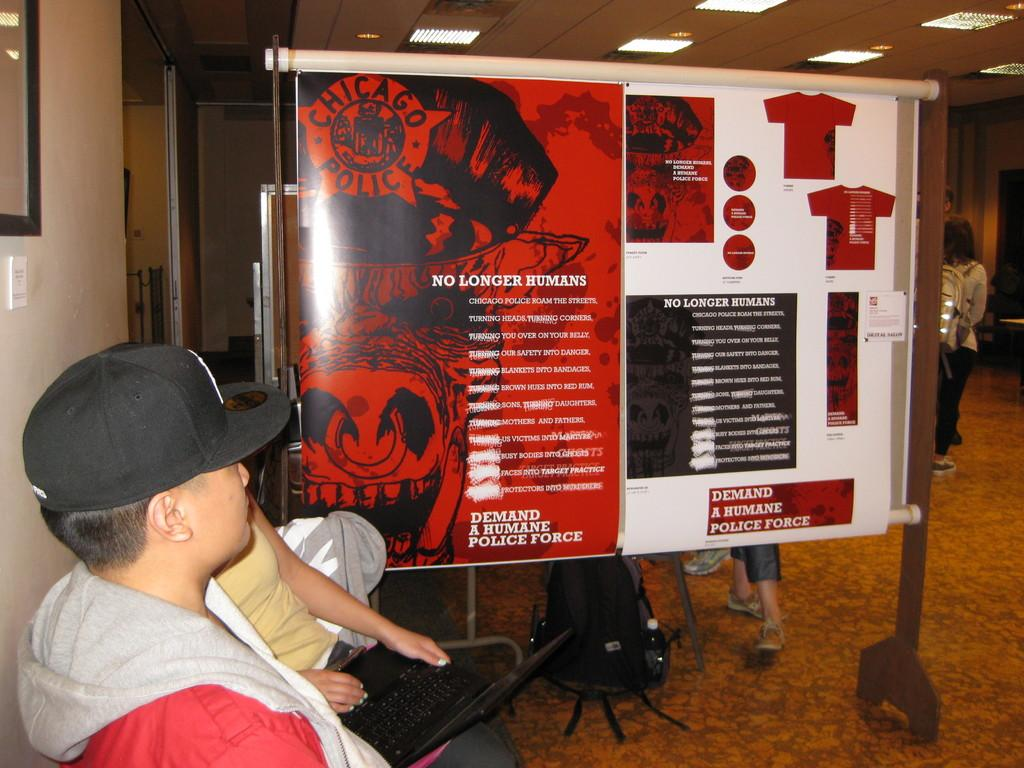Hat: (20, 344, 293, 512)
